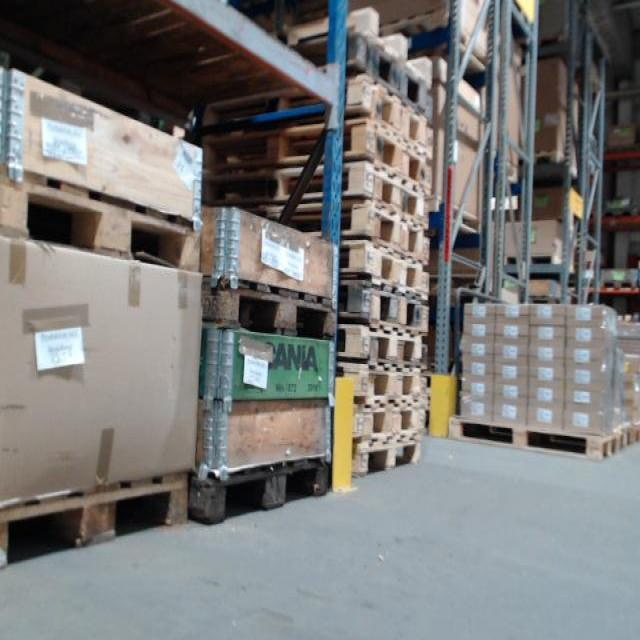pallet: (4, 160, 204, 282), (1, 463, 199, 577), (192, 452, 336, 535), (448, 400, 620, 467), (216, 177, 435, 222), (268, 210, 432, 268), (252, 148, 437, 189), (341, 240, 432, 302), (342, 277, 429, 339), (352, 88, 435, 152), (336, 317, 426, 372), (337, 359, 425, 405), (353, 405, 425, 441), (353, 441, 422, 472), (497, 244, 581, 269), (598, 278, 634, 294), (623, 410, 637, 449), (530, 148, 566, 163)
